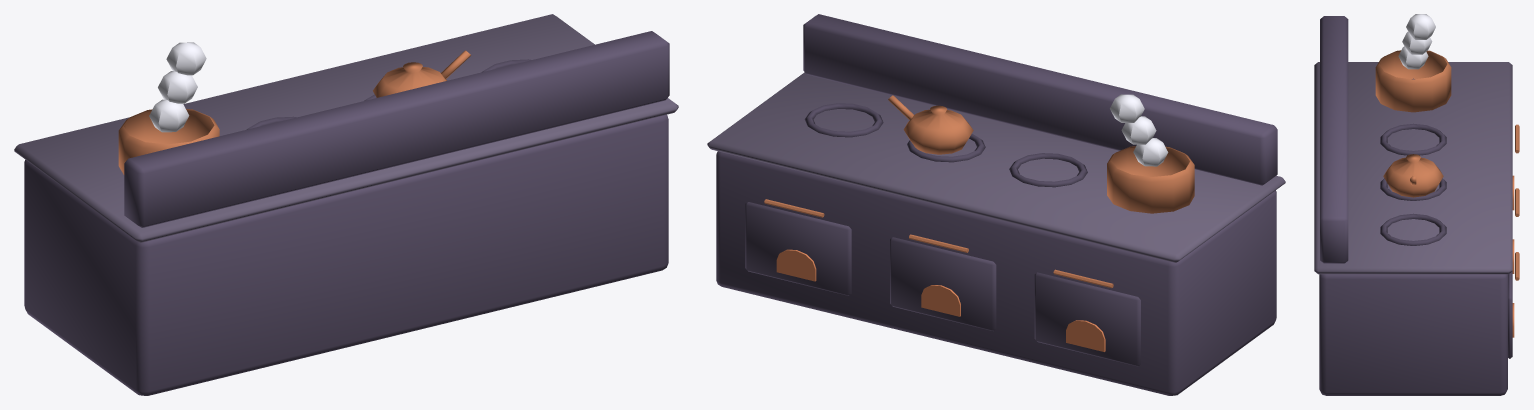
The model's file is range_iron.glb.
3 views of the same model, side by side, from view 1: azimuth 30°, elevation 25°; view 2: azimuth 150°, elevation 25°; view 3: azimuth 270°, elevation 25° (orthographic). The views are drawn at different scales.
Visible parts, largest first — view 1: range_iron; view 2: range_iron; view 3: range_iron.
Boxes of the visible parts, x1=… form: range_iron: x1=14, y1=14, x2=678, y2=395; range_iron: x1=707, y1=14, x2=1285, y2=395; range_iron: x1=1314, y1=14, x2=1519, y2=395.
Size of what is drawn, in the model's own units: 2.4 by 1.2 by 1.
